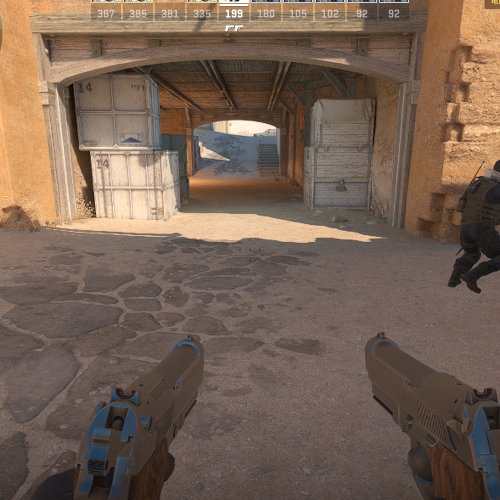ct_body: (452, 157, 499, 295)
